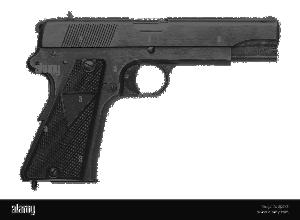handgun: (12, 8, 284, 192)
